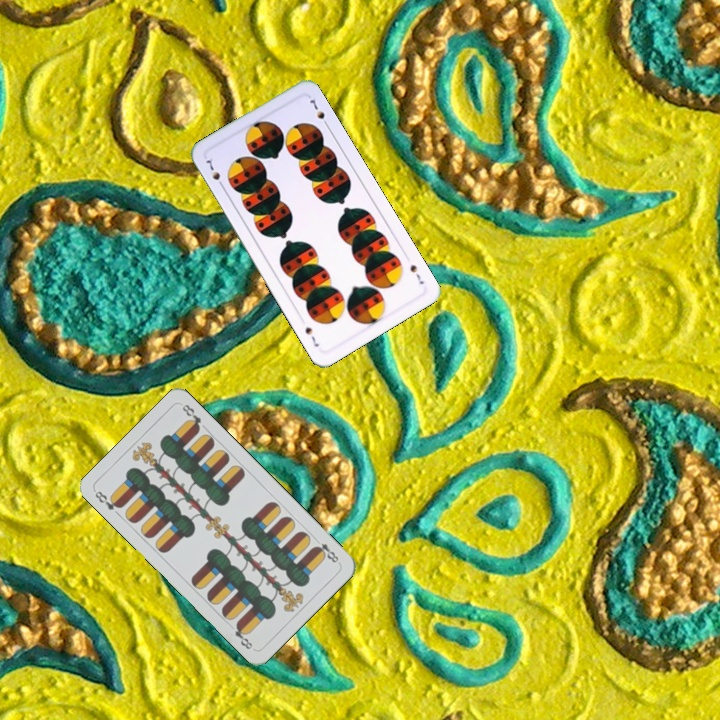E8: (310, 534, 342, 566), (91, 487, 125, 513)
S7: (202, 154, 227, 191), (406, 261, 427, 287)
